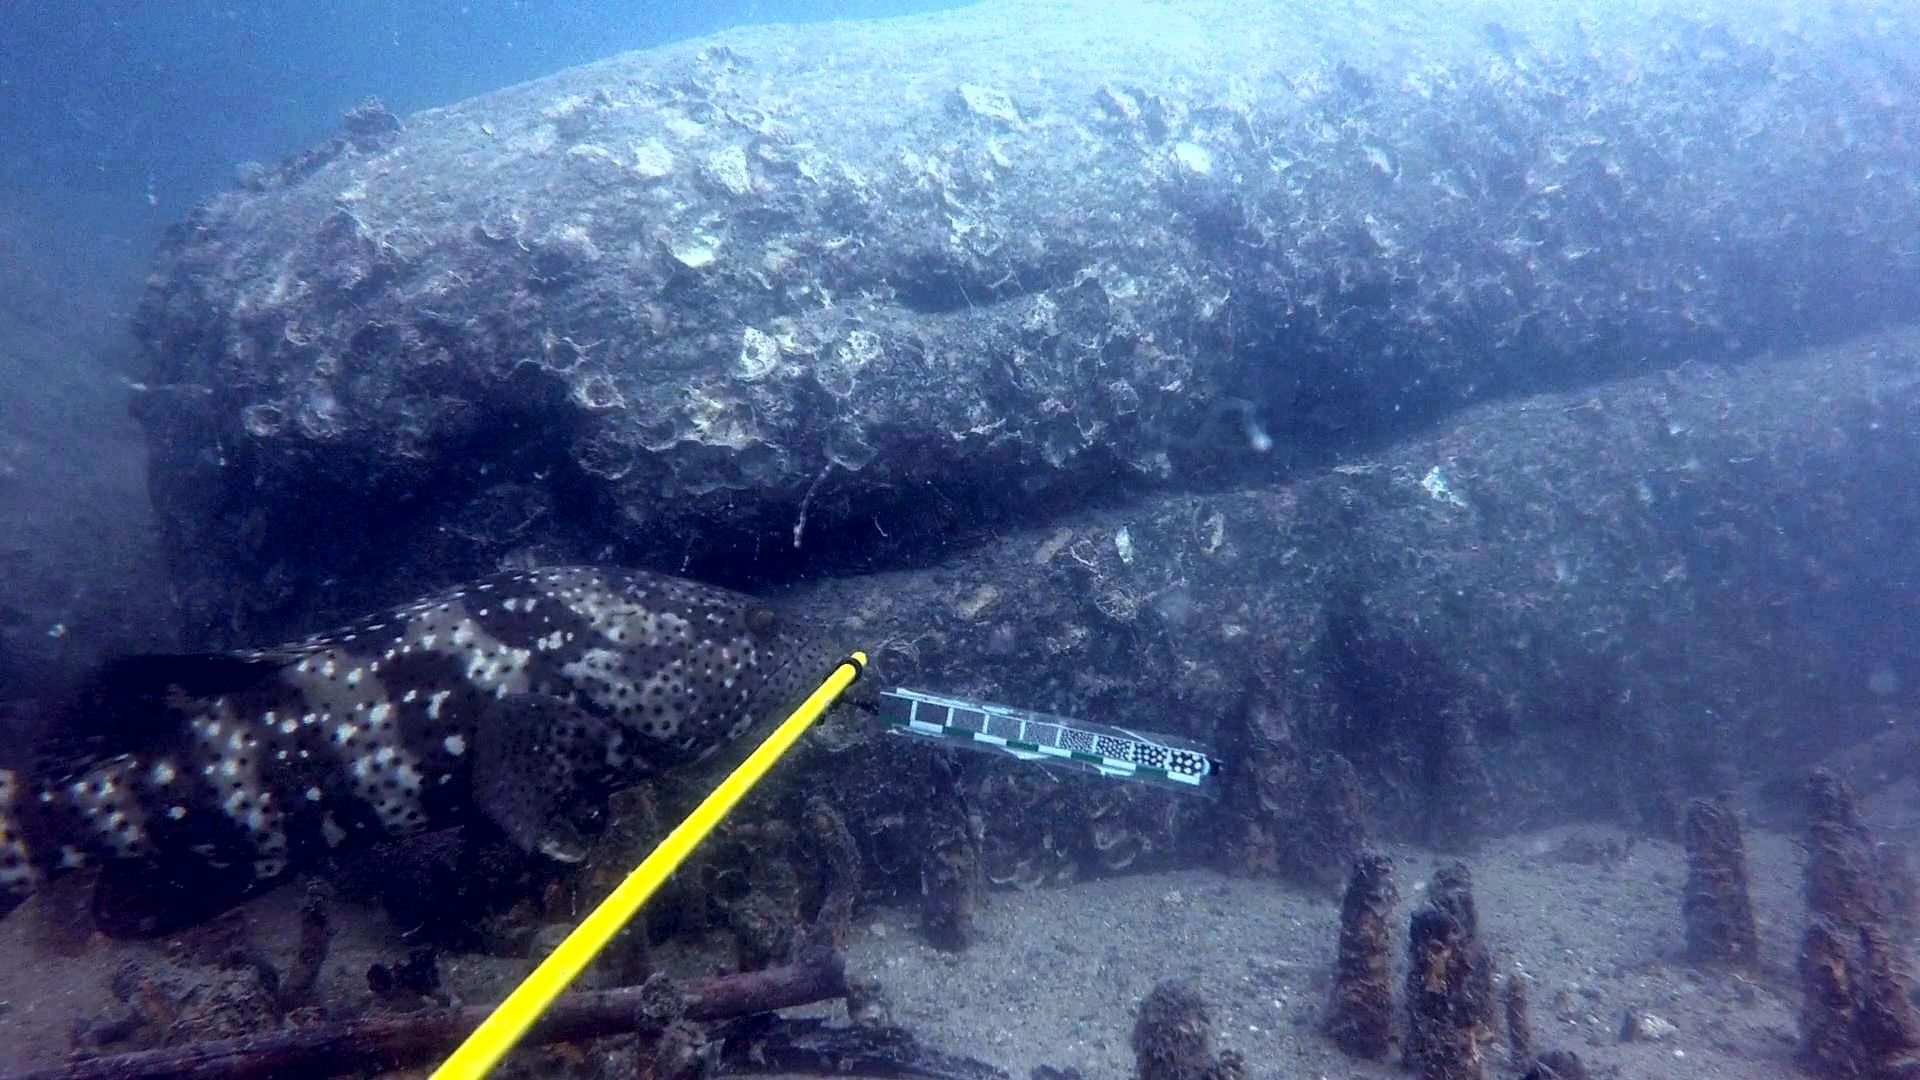epinephelus: (0, 556, 845, 944)
